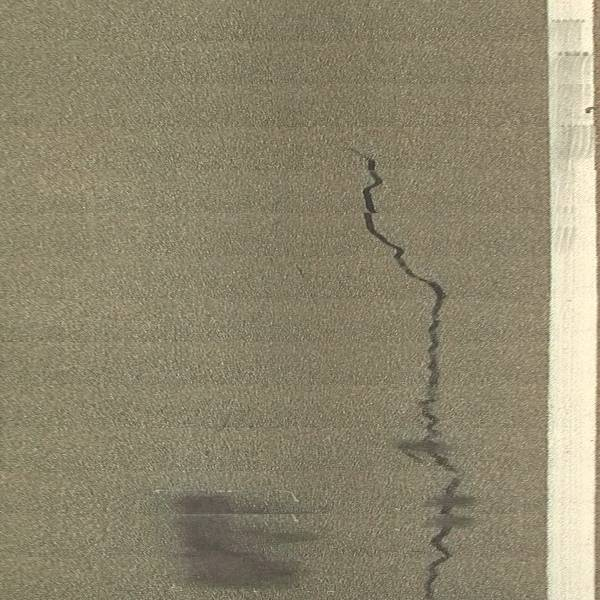road_damage: (351, 152, 480, 600)
